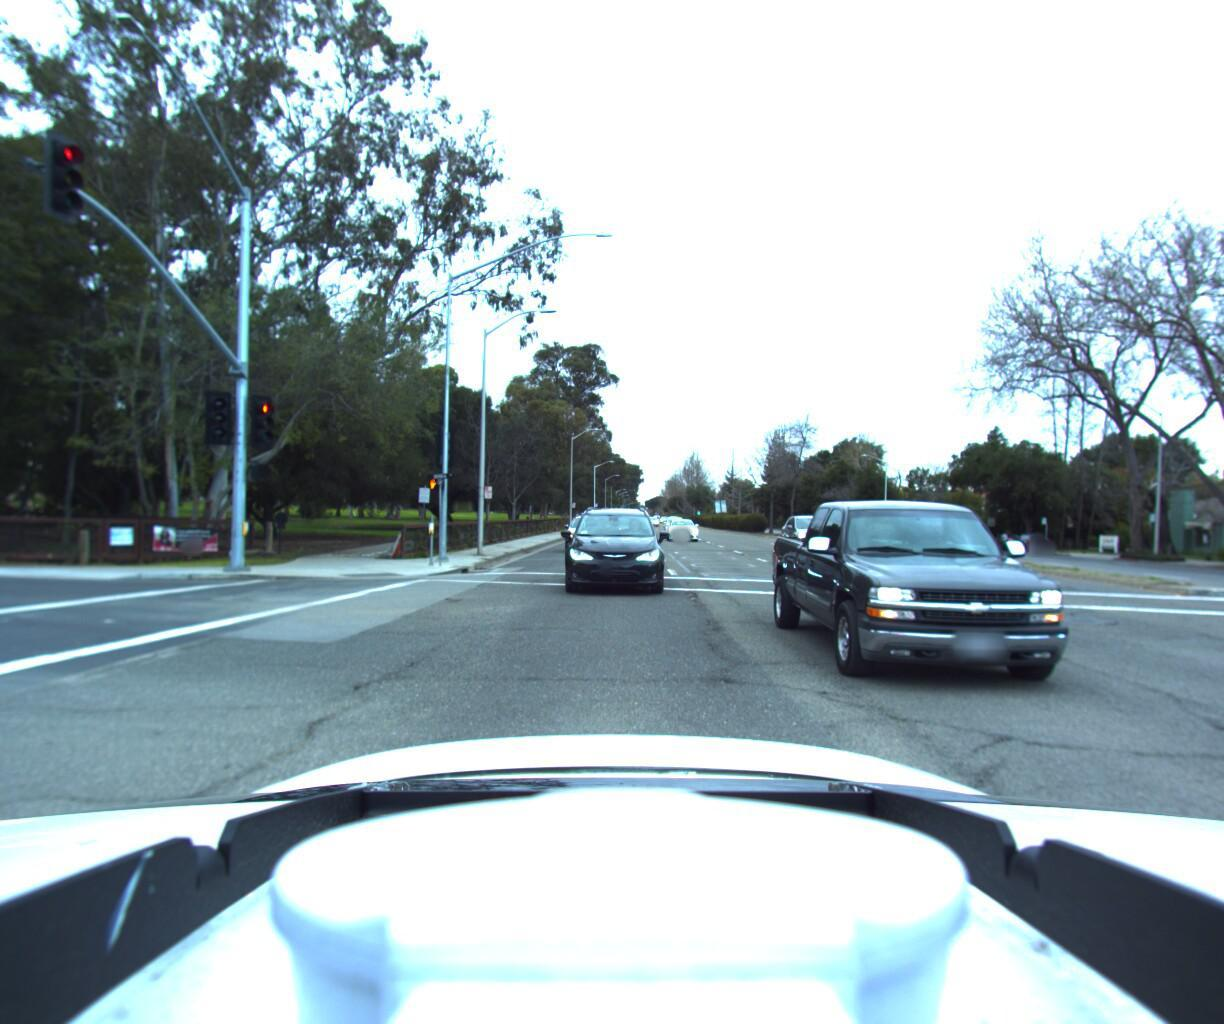car: (779, 483, 1224, 754), (564, 506, 663, 598), (781, 511, 855, 556), (560, 513, 602, 552), (1005, 530, 1054, 553), (666, 517, 701, 541)
